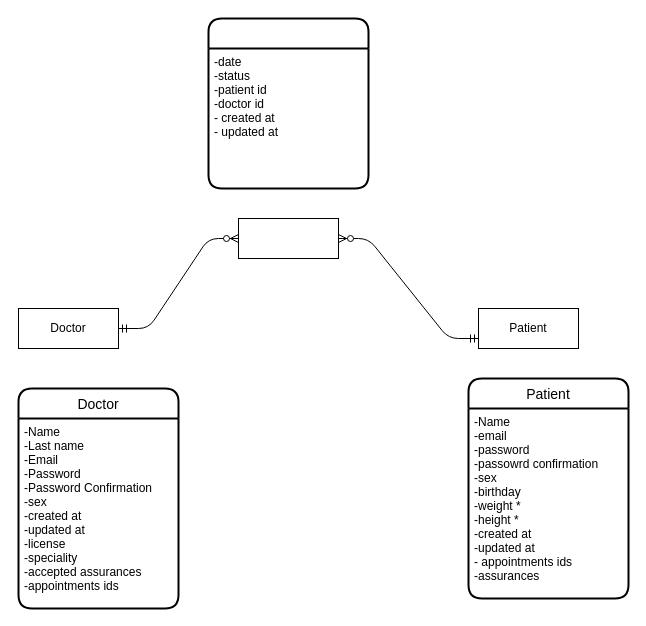
This 646x626 diagram has some shape labels left out. Each missing label, with the box of its shape:
Appointment: (238, 218, 338, 258)
Entity: (207, 17, 369, 189)
